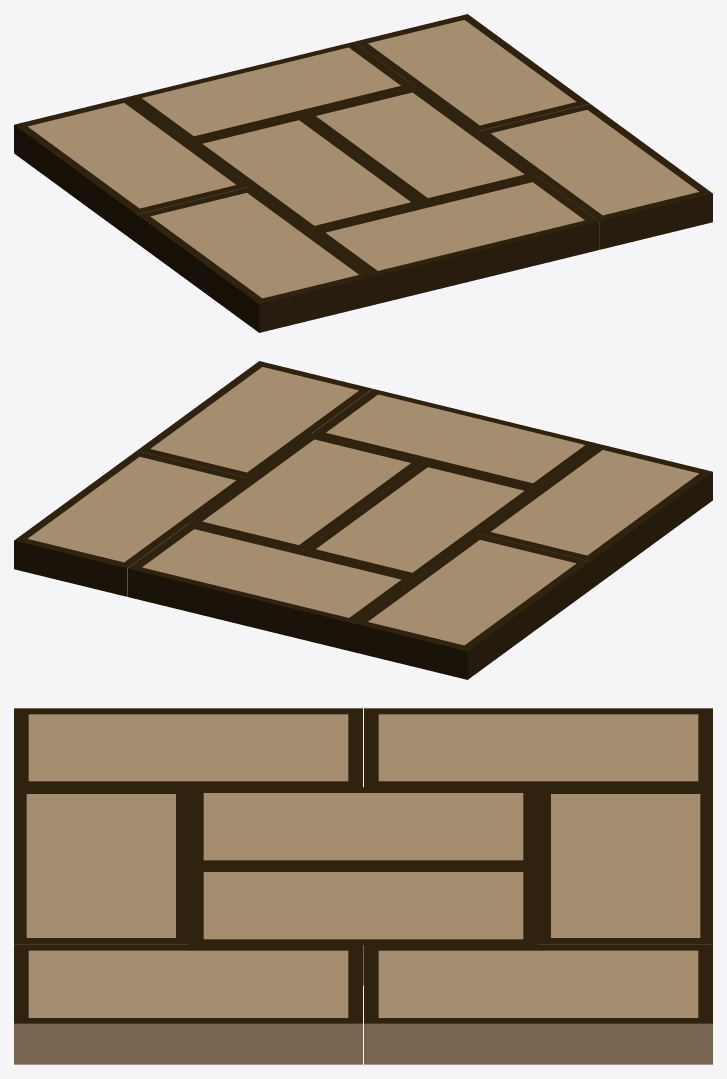
Rendered from Tatami.fbx.
The picture shows the model from 3 angles, top to bottom: view 1: azimuth 30°, elevation 25°; view 2: azimuth 150°, elevation 25°; view 3: azimuth 270°, elevation 25°; orthographic projection. The views are drawn at different scales.
Parts seen in each view (by area): view 1: TATAMI.006; view 2: TATAMI.006; view 3: TATAMI.006.
Part boxes in pixels (box(x1,y1,x2,y2)): TATAMI.006: box(14, 14, 712, 332); TATAMI.006: box(14, 361, 712, 679); TATAMI.006: box(14, 708, 712, 1064).
Bounding box in the file's own units: 940 × 56.73 × 880.
